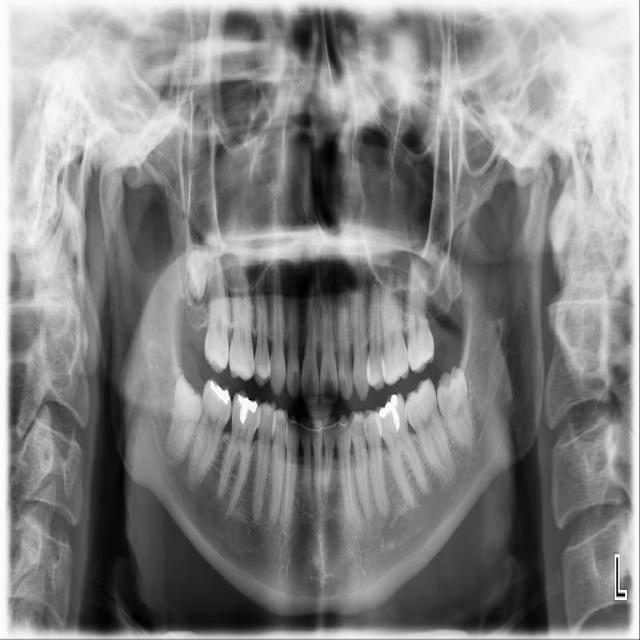Filling: (375, 393, 401, 429), (236, 393, 259, 427), (209, 380, 232, 406)
Periapical lesion: (453, 413, 488, 465), (372, 496, 395, 523), (416, 479, 435, 498)
impacted tooth: (435, 368, 478, 452), (164, 373, 203, 463)
